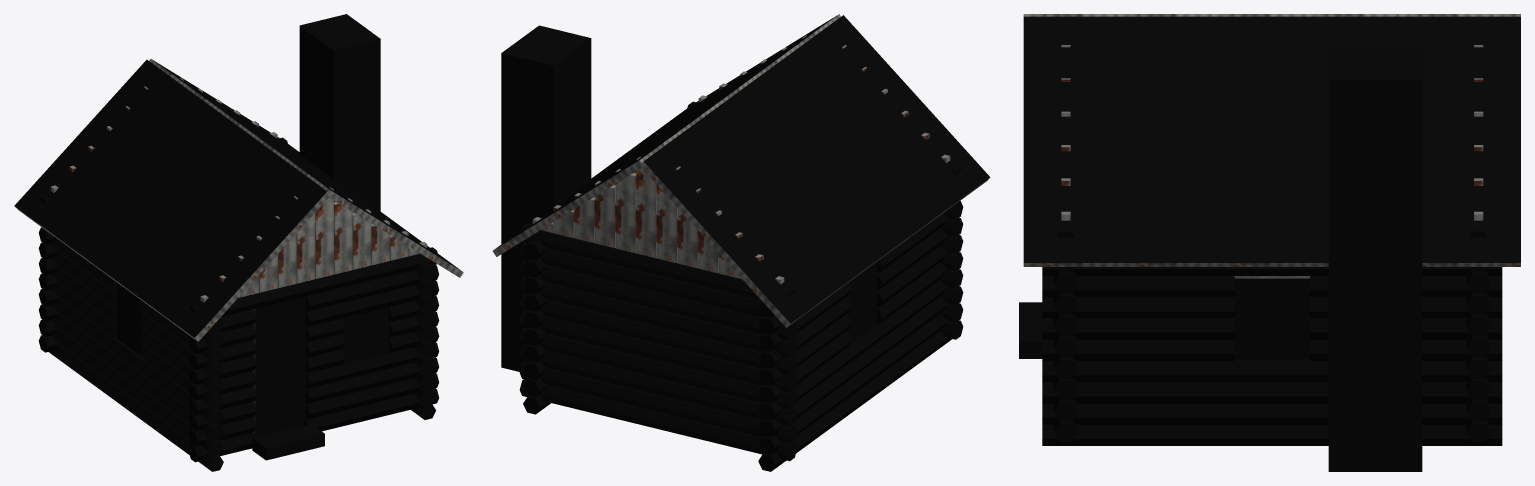
File: SM_cabin.fbx
The picture shows the model from 3 angles, left to right: view 1: azimuth 30°, elevation 25°; view 2: azimuth 150°, elevation 25°; view 3: azimuth 270°, elevation 25°; orthographic projection. The views are drawn at different scales.
Parts seen in each view (by area): view 1: cabin_roof_left, cabin_left, cabin_front_right, cabin_chimney, cabin_front_top, cabin_front_left, cabin_door, cabin_roof_right, cabin_right, cabin_back, cabin; view 2: cabin_roof_left, cabin_back, cabin_left, cabin_chimney, cabin_roof_right, cabin_right, cabin_front_left; view 3: cabin_roof_right, cabin_right, cabin_chimney, cabin_back, cabin_front_right, cabin_roof_left, cabin, cabin_front_top.
Boxes of the visible parts, x1,y1,x2,y2 form: cabin_roof_left: [14, 59, 330, 341]; cabin_left: [49, 239, 223, 471]; cabin_front_right: [303, 265, 439, 431]; cabin_chimney: [299, 14, 380, 211]; cabin_front_top: [189, 187, 437, 316]; cabin_front_left: [188, 309, 256, 462]; cabin_door: [253, 296, 305, 432]; cabin_roof_right: [149, 58, 463, 277]; cabin_right: [334, 200, 436, 419]; cabin_back: [38, 77, 287, 352]; cabin: [252, 340, 324, 460]; cabin_roof_left: [639, 15, 990, 327]; cabin_back: [519, 156, 797, 461]; cabin_left: [758, 213, 951, 471]; cabin_chimney: [501, 25, 591, 371]; cabin_roof_right: [492, 14, 840, 256]; cabin_right: [523, 171, 636, 414]; cabin_front_left: [940, 201, 963, 339]; cabin_roof_right: [1023, 16, 1520, 266]; cabin_right: [1042, 267, 1502, 445]; cabin_chimney: [1328, 49, 1422, 471]; cabin_back: [1466, 45, 1490, 442]; cabin_front_right: [1053, 267, 1077, 442]; cabin_roof_left: [1023, 14, 1520, 16]; cabin: [1019, 302, 1042, 358]; cabin_front_top: [1056, 45, 1075, 237].
Size of the model in its own units: 5.03 by 4.71 by 5.35.
